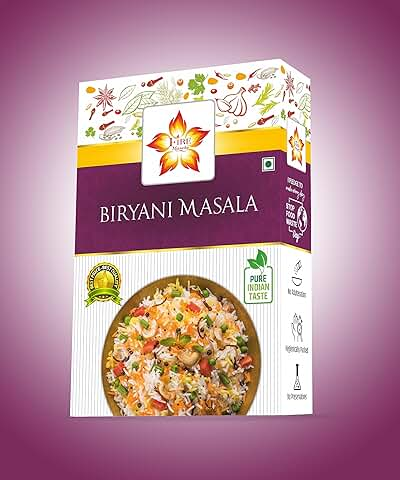Biryani: (70, 70, 317, 417)
